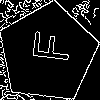F: (23, 28, 71, 64)
